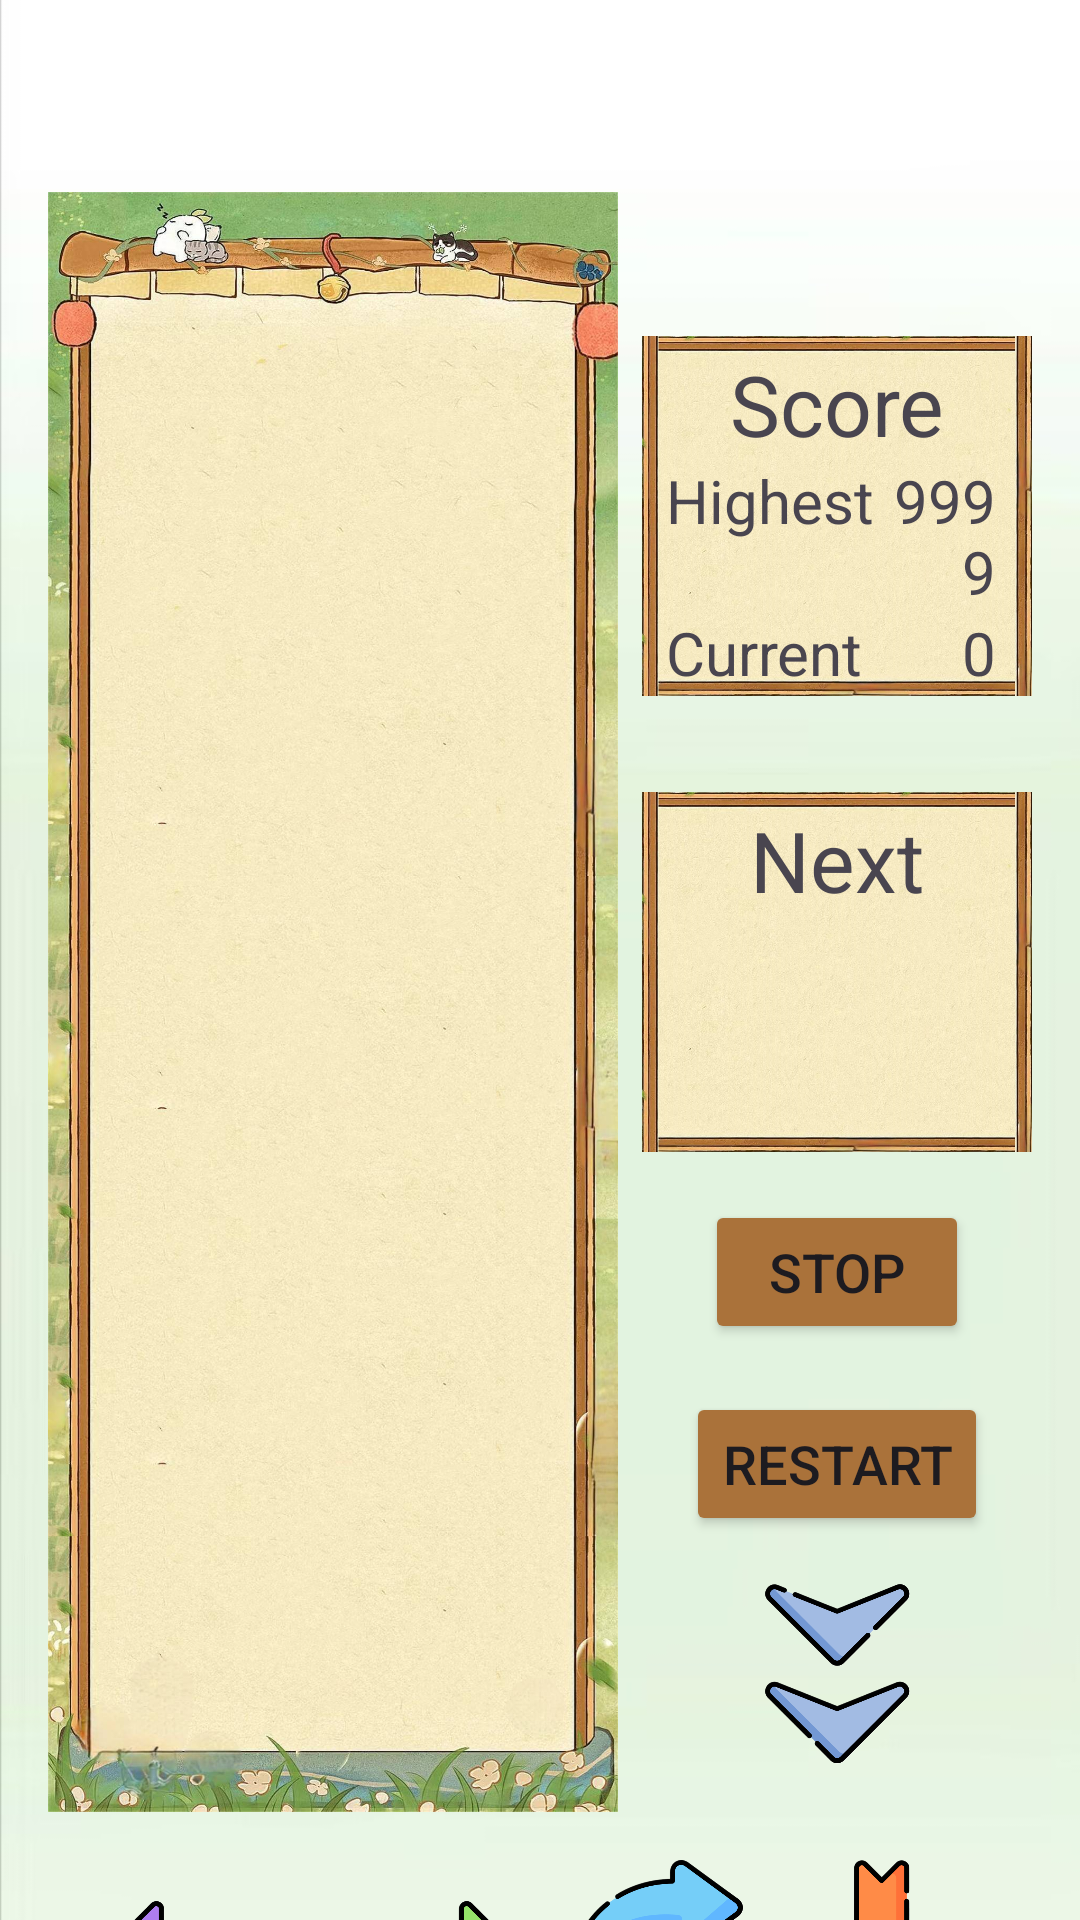

Screen size 1080w x 1920h. Icon name, then its center in pixels as [x,y]:
arrow quick down: [837,1673]
